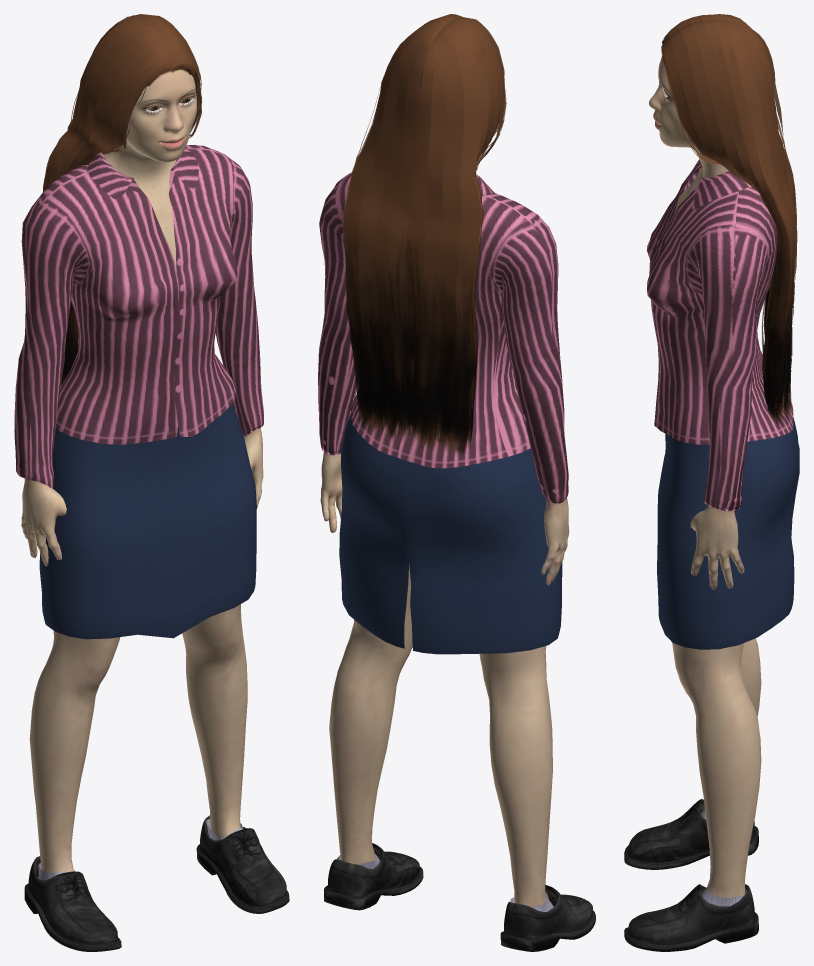
File: female_suit.glb
3 renders of one model, left to right at view 1: azimuth 30°, elevation 25°; view 2: azimuth 150°, elevation 25°; view 3: azimuth 270°, elevation 25°, orthographic. The views are drawn at different scales.
Visible parts, largest first — view 1: suit, body, hair, shoes; view 2: suit, hair, body, shoes; view 3: suit, hair, body, shoes.
Part boxes in pixels (bbox=[...]): suit: bbox=[14, 145, 263, 639]; body: bbox=[21, 69, 263, 872]; hair: bbox=[43, 14, 201, 387]; shoes: bbox=[24, 815, 289, 951]; suit: bbox=[318, 172, 568, 654]; hair: bbox=[342, 14, 506, 455]; body: bbox=[320, 452, 569, 907]; shoes: bbox=[324, 843, 595, 951]; suit: bbox=[647, 159, 799, 649]; hair: bbox=[661, 14, 797, 427]; body: bbox=[649, 56, 761, 898]; shoes: bbox=[624, 799, 758, 951].
Size of the model in its own units: 0.4611 by 1.61 by 0.291.
Materials: 8 (8 with a texture image).
